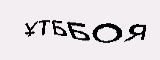Б: (66, 17, 90, 44), (50, 18, 67, 37)
О: (91, 20, 123, 45)
Т: (38, 16, 51, 37)
Я: (125, 21, 149, 43)
Ұ: (19, 17, 39, 39)
